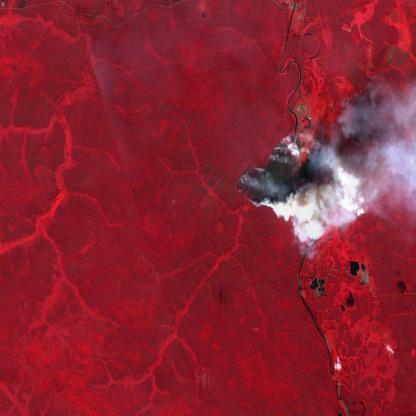fire: (235, 135, 329, 216)
